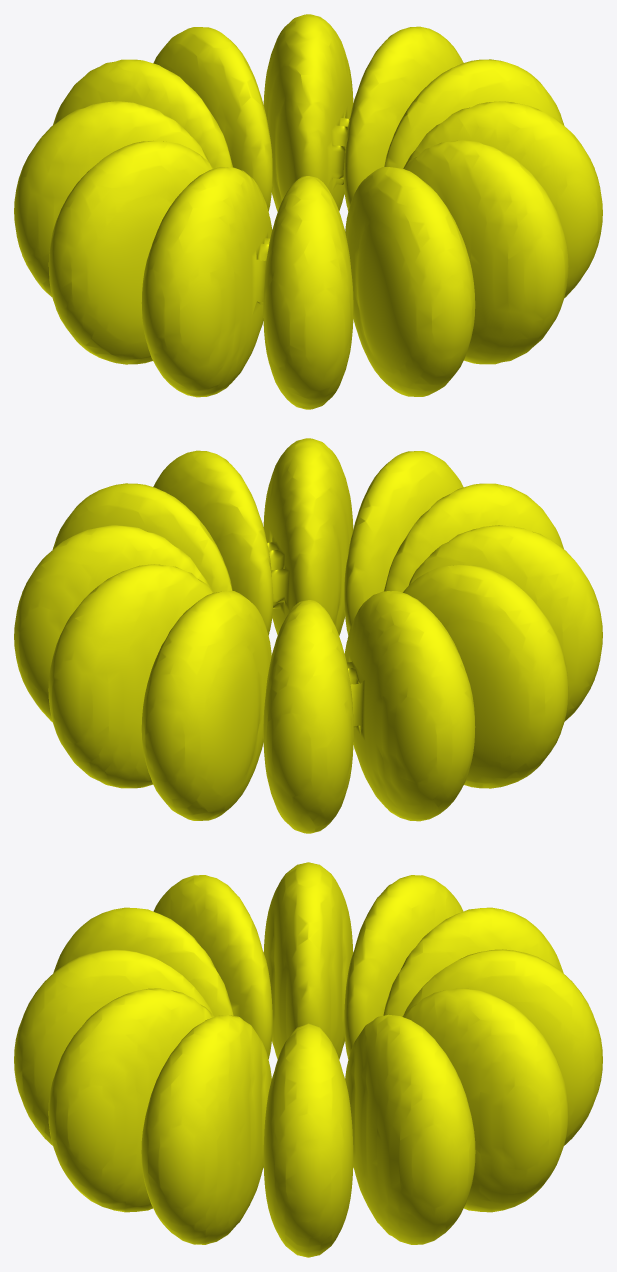
Rendered from orb_n=7_ l=6 _m=6.fbx.
The picture shows the model from 3 angles, top to bottom: view 1: azimuth 30°, elevation 25°; view 2: azimuth 150°, elevation 25°; view 3: azimuth 270°, elevation 25°; orthographic projection.
Parts seen in each view (by area): view 1: orb_n=7_ l=6 _m=6; view 2: orb_n=7_ l=6 _m=6; view 3: orb_n=7_ l=6 _m=6.
Boxes of the visible parts, x1,y1,x2,y2 form: orb_n=7_ l=6 _m=6: (14,14,602,409); orb_n=7_ l=6 _m=6: (14,438,602,833); orb_n=7_ l=6 _m=6: (14,862,602,1257).
Bounding box in the file's own units: 17147 × 6997 × 17147.
